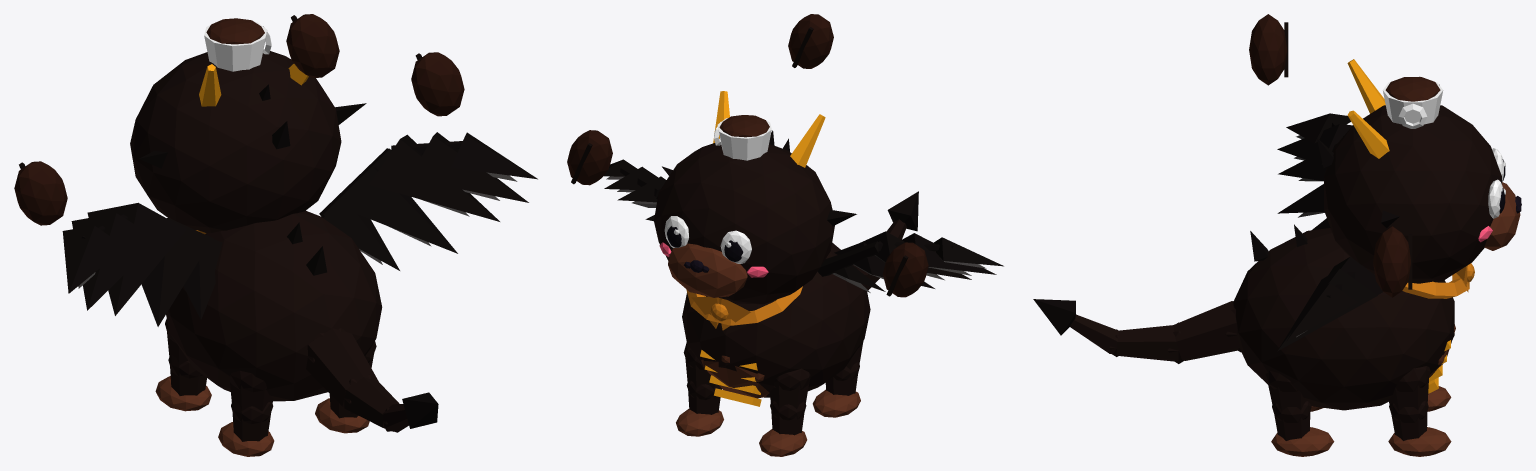
The model's file is brownie_dragon.obj.
The picture shows the model from 3 angles, left to right: view 1: azimuth 30°, elevation 25°; view 2: azimuth 150°, elevation 25°; view 3: azimuth 270°, elevation 25°; orthographic projection. The views are drawn at different scales.
Visible parts, largest first — view 1: Head_2_m3, Body_1_m1, WingR_12_m28, WingL_11_m26, Tail1_13_m30, Float1_16_m37, Float2_17_m39, Float3_18_m41, Head_2_m6, Tail2_14_m31, Leg3Lo_8_m17, Leg3Up_7_m16 (+11 smaller); view 2: Head_2_m3, Body_1_m1, WingL_11_m26, Head_2_m4, Head_2_m6, Body_1_m35, Float2_17_m39, Float3_18_m41, Float1_16_m37, WingR_12_m28, Body_1_m2, Leg1Up_3_m10 (+14 smaller); view 3: Body_1_m1, Head_2_m3, WingR_12_m28, WingL_11_m26, Tail1_13_m30, Head_2_m6, Float3_18_m41, Float2_17_m39, Tail2_14_m31, Head_2_m22, Leg2Up_5_m13, Head_2_m4 (+11 smaller).
Boxes of the visible parts, x1,y1,x2,y2 form: Head_2_m3: (130,51,341,233); Body_1_m1: (166,210,382,401); WingR_12_m28: (319,132,537,270); WingL_11_m26: (62,202,222,326); Tail1_13_m30: (306,328,378,406); Float1_16_m37: (14,161,67,225); Float2_17_m39: (411,52,464,116); Float3_18_m41: (286,14,339,77); Head_2_m6: (204,22,271,71); Tail2_14_m31: (344,374,399,431); Leg3Lo_8_m17: (231,401,273,441); Leg3Up_7_m16: (230,370,273,411); Head_2_m3: (654,143,834,304); Body_1_m1: (682,242,870,397); WingL_11_m26: (817,231,1003,291); Head_2_m4: (668,243,747,297); Head_2_m6: (664,118,771,263); Body_1_m35: (686,286,802,330); Float2_17_m39: (567,130,612,185); Float3_18_m41: (788,14,833,68); Float1_16_m37: (882,242,928,297); WingR_12_m28: (603,159,666,221); Body_1_m2: (701,355,769,398); Leg1Up_3_m10: (770,368,810,408); Body_1_m1: (1233,228,1454,410); Head_2_m3: (1324,105,1501,283); WingR_12_m28: (1277,256,1382,351); WingL_11_m26: (1277,113,1352,230); Tail1_13_m30: (1173,301,1240,360); Head_2_m6: (1382,82,1504,218); Float3_18_m41: (1249,14,1286,85); Float2_17_m39: (1373,226,1410,297); Tail2_14_m31: (1116,322,1184,363); Head_2_m22: (1347,59,1389,158); Leg2Up_5_m13: (1388,366,1430,411); Head_2_m4: (1484,182,1520,250).
Size of the model in its own units: 3.69 by 3.29 by 3.55.
